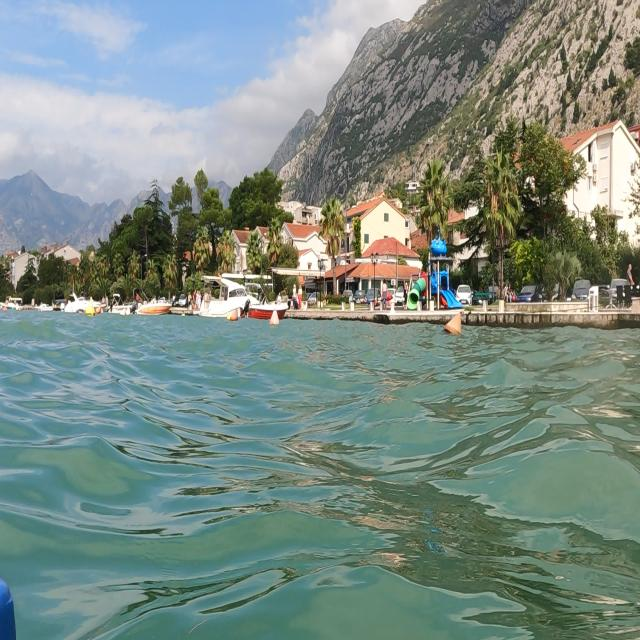boat: (196, 267, 294, 331), (109, 288, 174, 326), (59, 282, 108, 320)
buoy: (441, 306, 471, 344), (266, 301, 284, 337)
